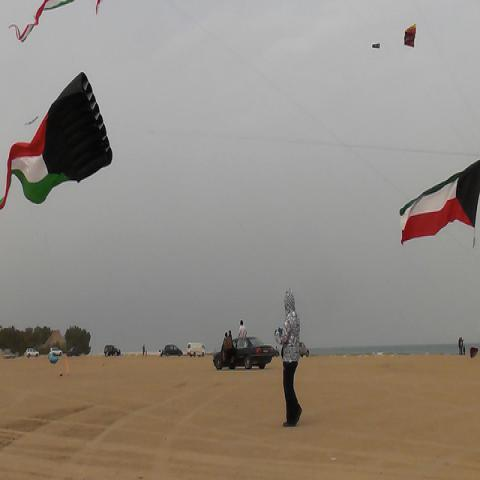car: (213, 336, 274, 370), (163, 345, 183, 357), (48, 346, 62, 358), (300, 343, 309, 359), (50, 353, 59, 366), (67, 346, 77, 357), (3, 350, 15, 358), (274, 348, 280, 358)
truck: (186, 343, 206, 358), (48, 346, 62, 364), (104, 344, 122, 357), (26, 348, 39, 358)
